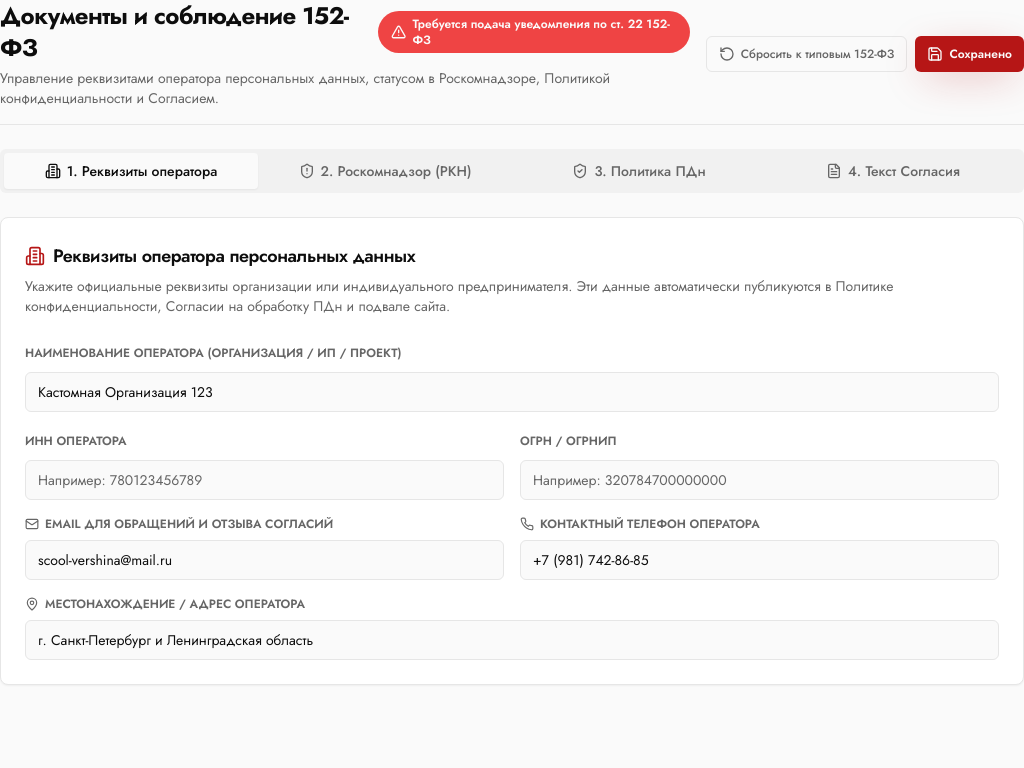
Scenario: AdminLegal - 152-ФЗ Legal Compliance & Operator Settings › 'Сбросить к типовым 152-ФЗ' button opens confirmation dialog and restores default legal settings
Expected: the field labelled "Наименование оператора (организация / ИП / проект)" holds "Кастомная Организация 123", top-left (25, 372), bottom-right (999, 412)
// Click "Сбросить к типовым 152-ФЗ"
Click the button "Сбросить к типовым 152-ФЗ".
click(807, 54)  # box top-left (706, 36), bottom-right (907, 72)
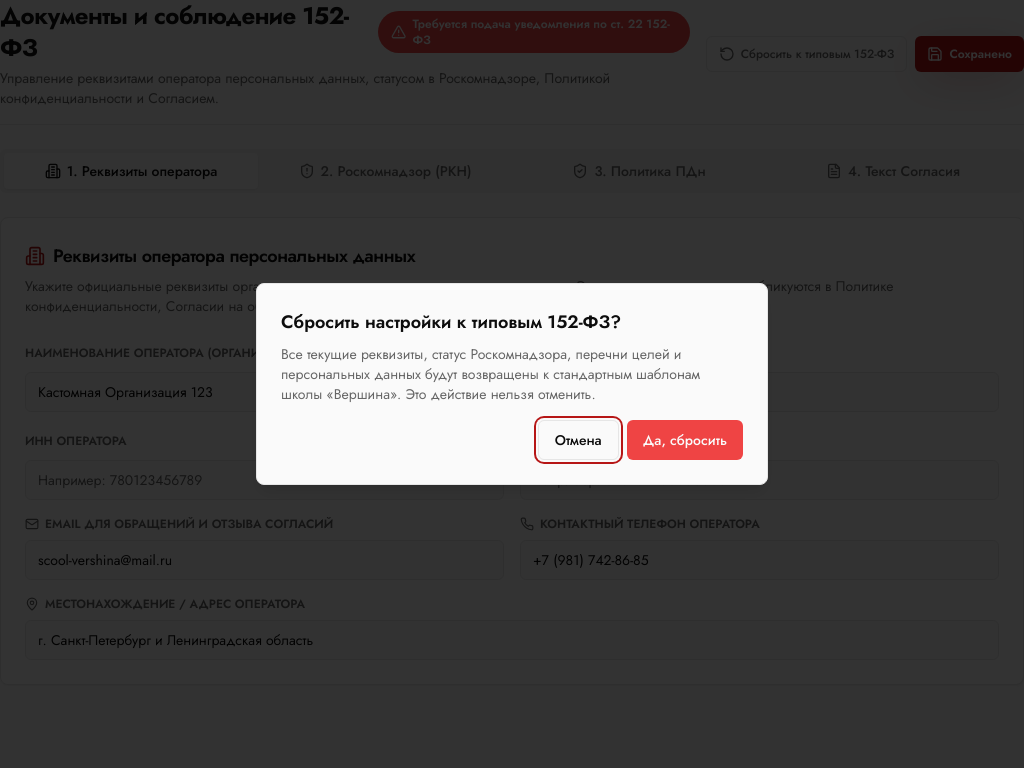
Now the heading "Сбросить настройки к типовым 152-ФЗ?" is shown, box top-left (281, 309), bottom-right (621, 335)
Now the text "Все текущие реквизиты, статус Роскомнадзора, перечни целей" is shown, box top-left (281, 344), bottom-right (700, 404)
// Confirm reset
Click the button "Да, сбросить".
click(685, 440)  # box top-left (627, 420), bottom-right (743, 460)
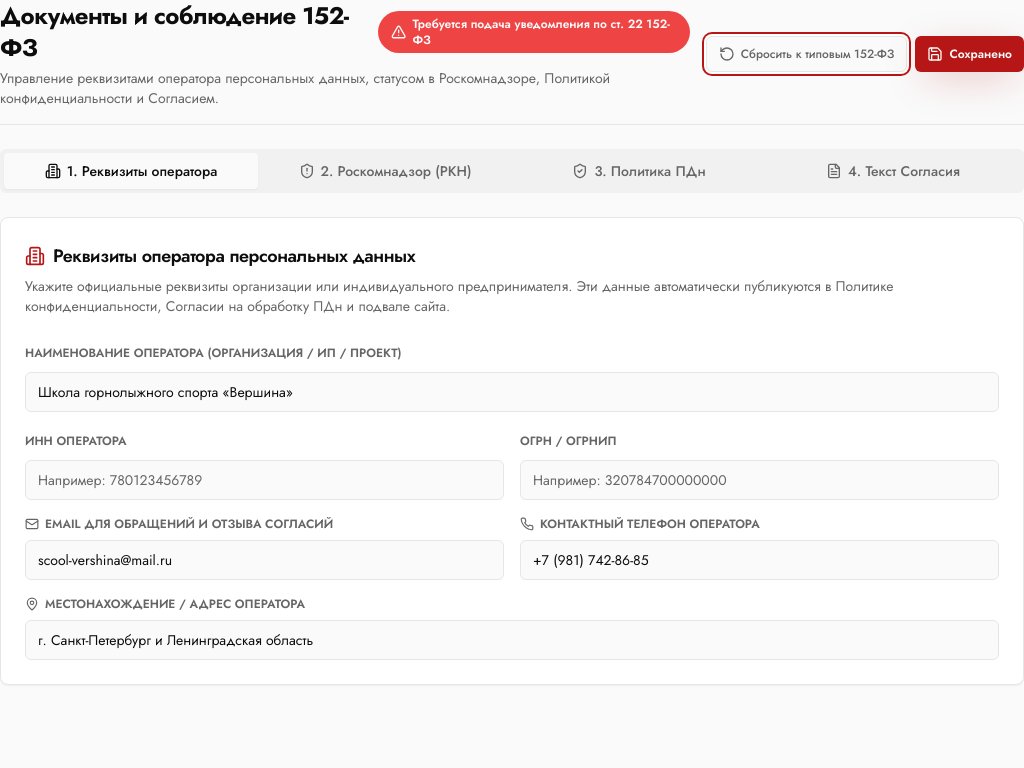
Now the field labelled "Наименование оператора (организация / ИП / проект)" holds "Школа горнолыжного спорта «Вершина»", box top-left (25, 372), bottom-right (999, 412)
